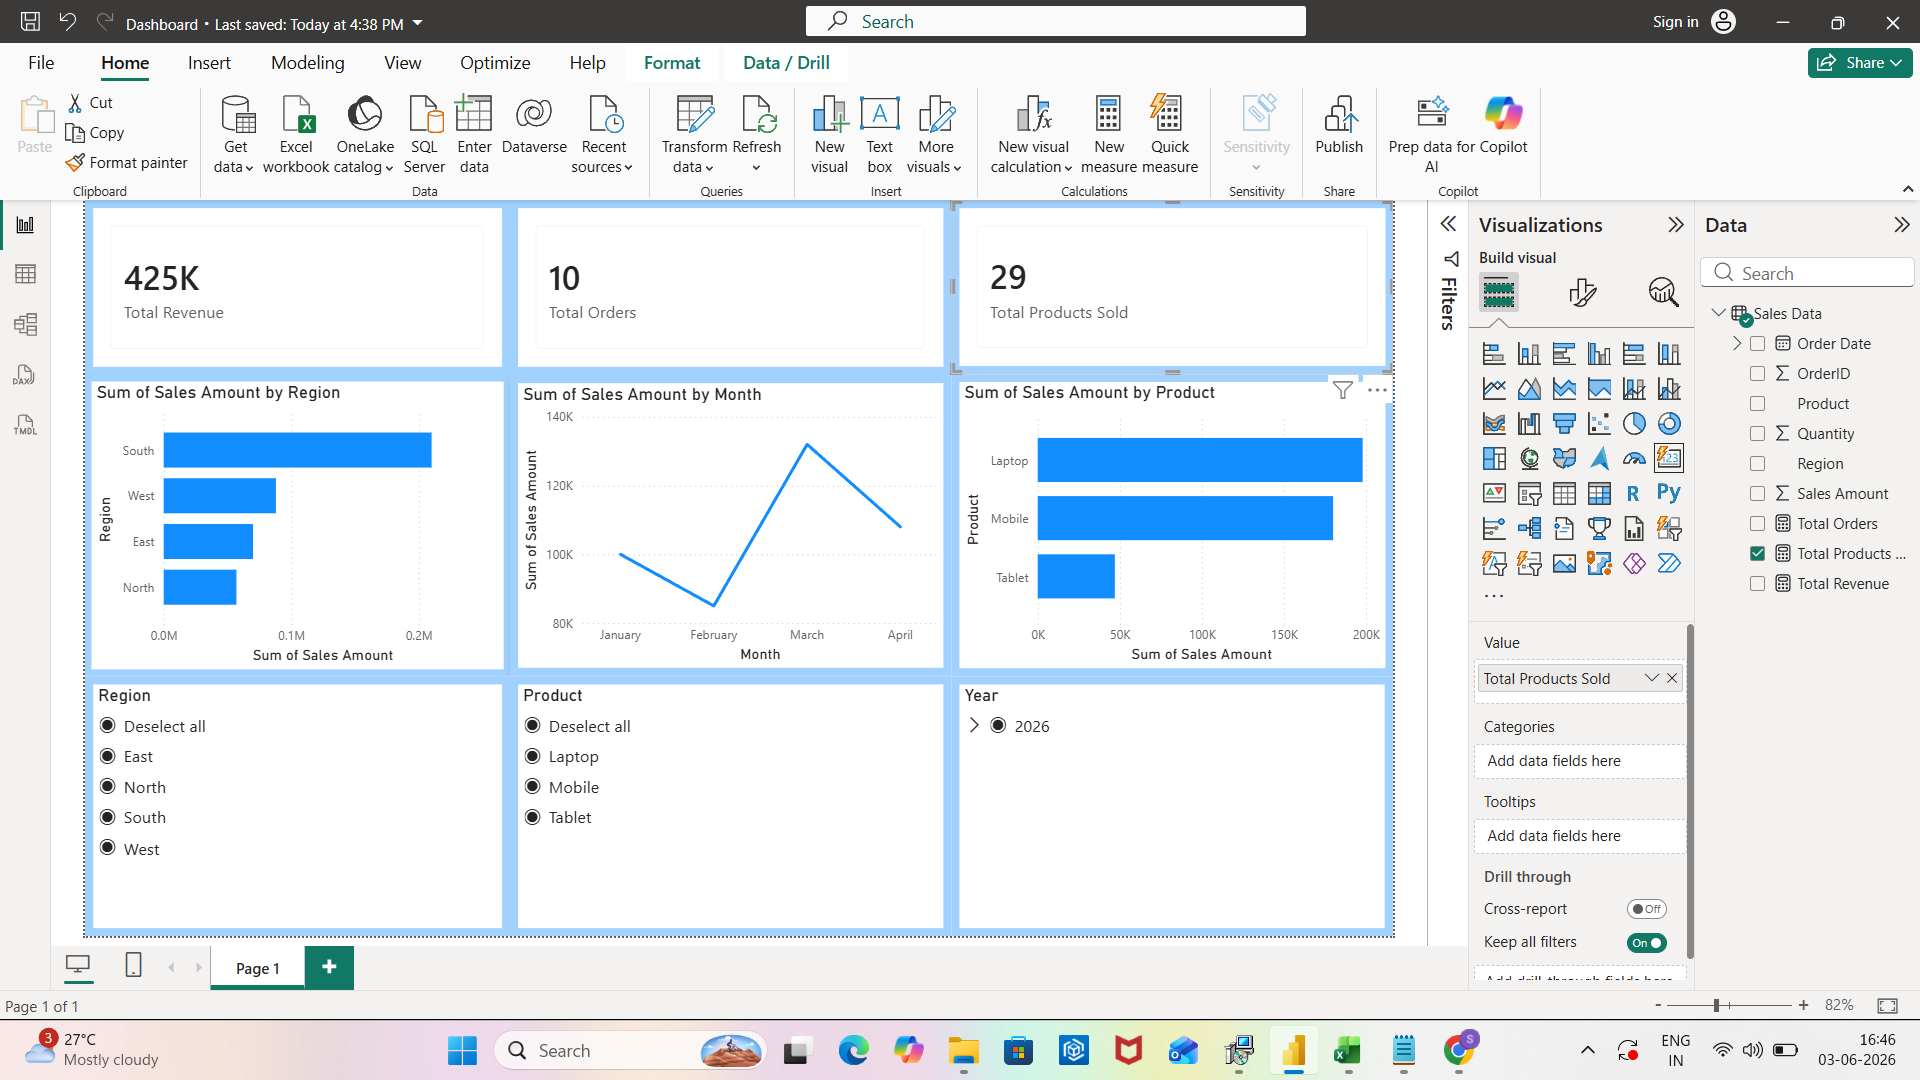

This screenshot's page, from the dashboard's own definition file:
{"tool":"powerbi","page":{"name":"Page 1","canvas":[1280,720],"ordinal":0},"visuals":[{"type":"barChart","fields":{"Category":["Sales Data.Region"],"Y":["Sum(Sales Data.Sales Amount)"]},"box":[0,171.2,415.8,294.7],"z":0},{"type":"lineChart","fields":{"Category":["Sales Data.Order Date.Variation.Date Hierarchy.Month"],"Y":["Sum(Sales Data.Sales Amount)"]},"box":[415.8,171.2,431.7,294.7],"z":1000},{"type":"barChart","fields":{"Category":["Sales Data.Product"],"Y":["Sum(Sales Data.Sales Amount)"]},"box":[847.4,170,432.9,295.9],"z":2000},{"type":"kpi","fields":{"Indicator":["Sales Data.Total Revenue"]},"box":[0,0,415.8,171.2],"z":3000},{"type":"kpi","fields":{"Indicator":["Sales Data.Total Orders"]},"box":[415.8,0,431.7,171.2],"z":4000},{"type":"kpi","fields":{"Indicator":["Sales Data.Total Products Sold"]},"box":[847,0,433,170],"z":5000},{"type":"listSlicer","fields":{"Values":["Sales Data.Region"]},"box":[0,465.9,415.8,254.3],"z":6000},{"type":"listSlicer","fields":{"Values":["Sales Data.Product"]},"box":[416,466,432,254],"z":7000},{"type":"listSlicer","fields":{"Values":["Sales Data.Order Date.Variation.Date Hierarchy.Year","Sales Data.Order Date.Variation.Date Hierarchy.Quarter","Sales Data.Order Date.Variation.Date Hierarchy.Month","Sales Data.Order Date.Variation.Date Hierarchy.Day"]},"box":[848,466,432,254],"z":8000}]}

Visuals, with their boxes on the page's 1280x720 design canvas (x1, y1, x2, y2). These are canvas units, not pixel positions in the 1920x1080 screenshot, which may show the page scaled, cropped or inside an application window:
barChart - Sales Data.Region x Sum(Sales Data.Sales Amount): <region>0, 171, 416, 466</region>
lineChart - Sales Data.Order Date.Variation.Date Hierarchy.Month x Sum(Sales Data.Sales Amount): <region>416, 171, 848, 466</region>
barChart - Sales Data.Product x Sum(Sales Data.Sales Amount): <region>847, 170, 1280, 466</region>
kpi - Sales Data.Total Revenue: <region>0, 0, 416, 171</region>
kpi - Sales Data.Total Orders: <region>416, 0, 848, 171</region>
kpi - Sales Data.Total Products Sold: <region>847, 0, 1280, 170</region>
listSlicer - Sales Data.Region: <region>0, 466, 416, 720</region>
listSlicer - Sales Data.Product: <region>416, 466, 848, 720</region>
listSlicer - Sales Data.Order Date.Variation.Date Hierarchy.Year x Sales Data.Order Date.Variation.Date Hierarchy.Quarter: <region>848, 466, 1280, 720</region>
